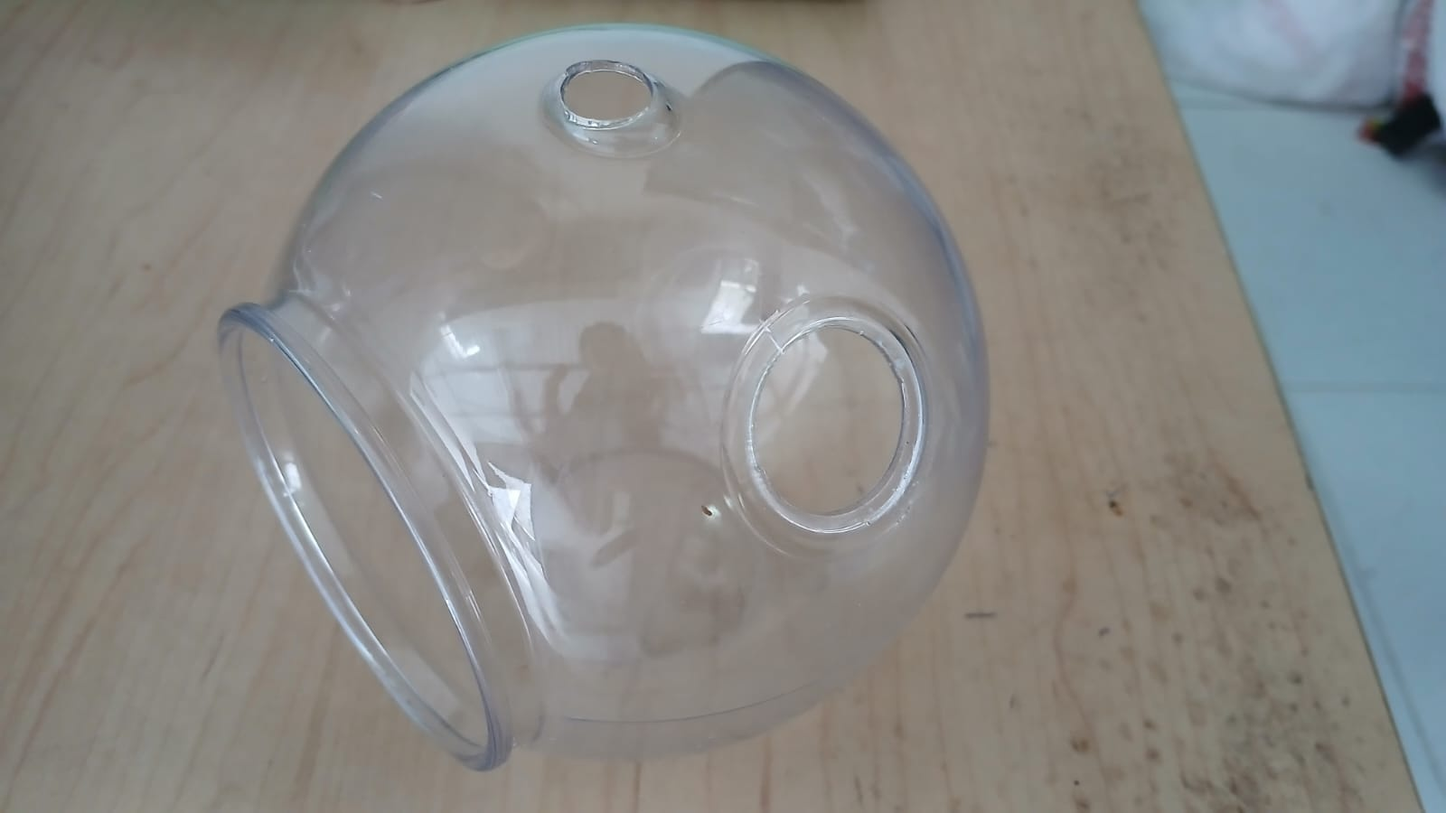Plastico: (210, 28, 992, 773)
